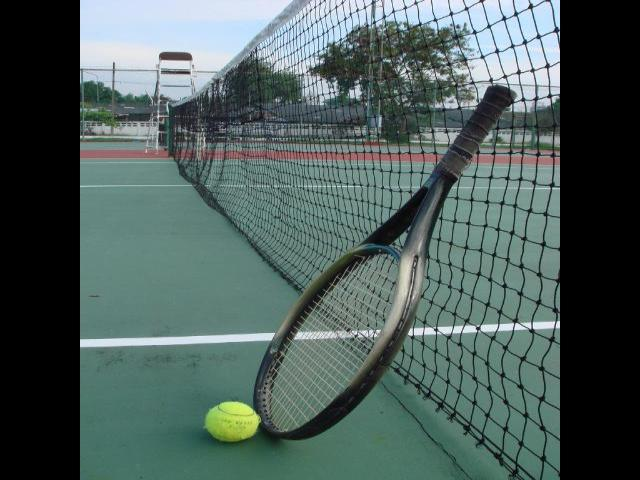tennis-ball: (204, 400, 262, 444)
